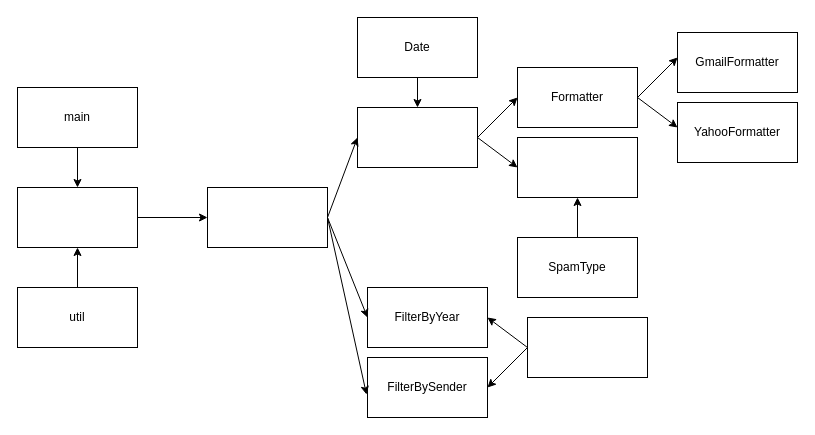
Some shapes in this 815 by 435 pixel diagram are drawn without their labels. The box of each missing label's shape, as (x1, y1, x2, y2) in pixels:
Email: (356, 106, 478, 168)
EmailBox: (206, 186, 328, 248)
Filter: (526, 316, 648, 378)
SpamEmail: (516, 136, 638, 198)
test: (16, 186, 138, 248)
